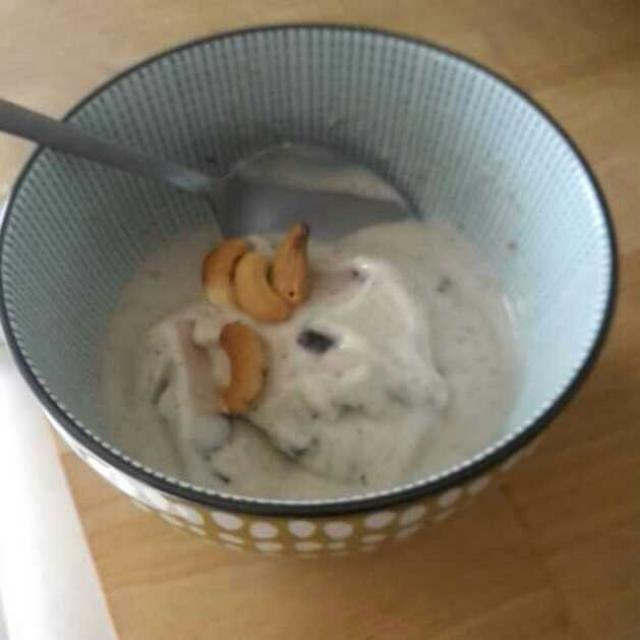cashew-nut: (180, 218, 334, 438)
chocolate: (295, 320, 342, 360)
